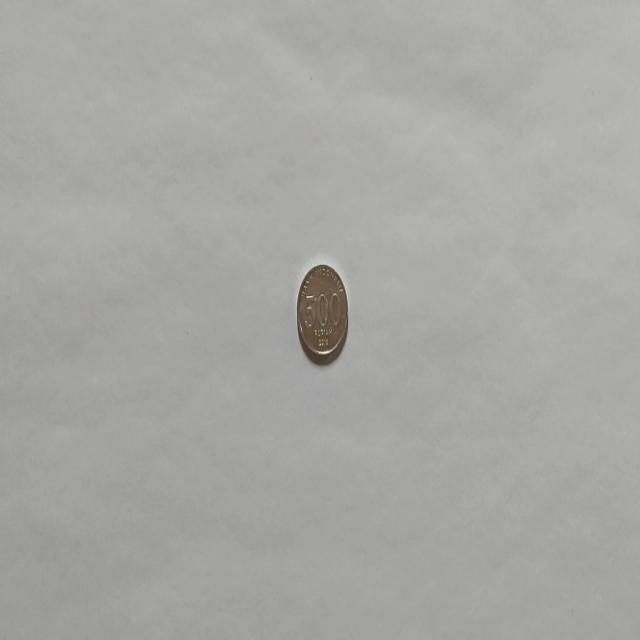lima ratus rupiah: (295, 262, 349, 364)
